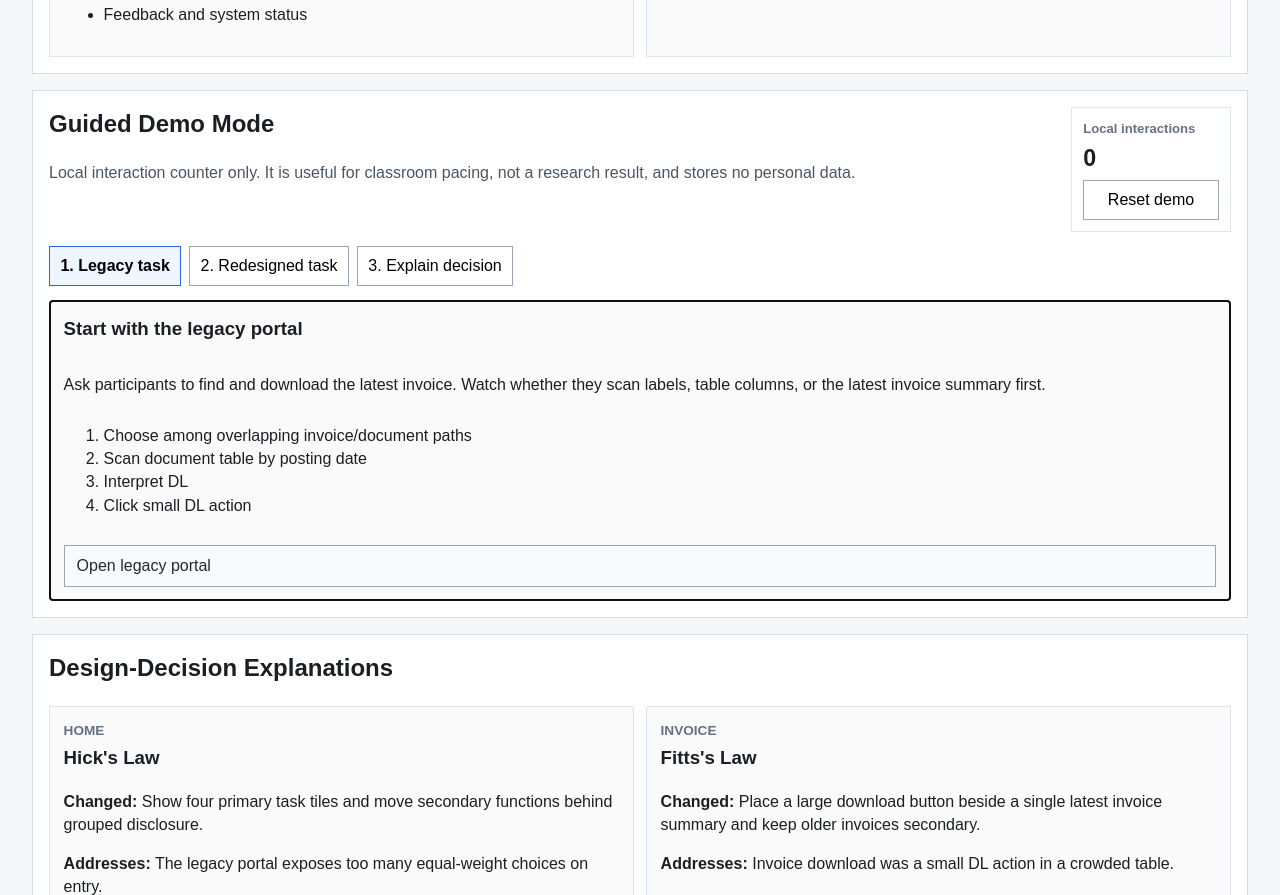
Scenario: Compare view behaviors › exposes comparison controls and demo state
(page scrolled)
Step 1. Click the button "2. Redesigned task" → {"x": 269, "y": 266}, box [189, 246, 349, 286]
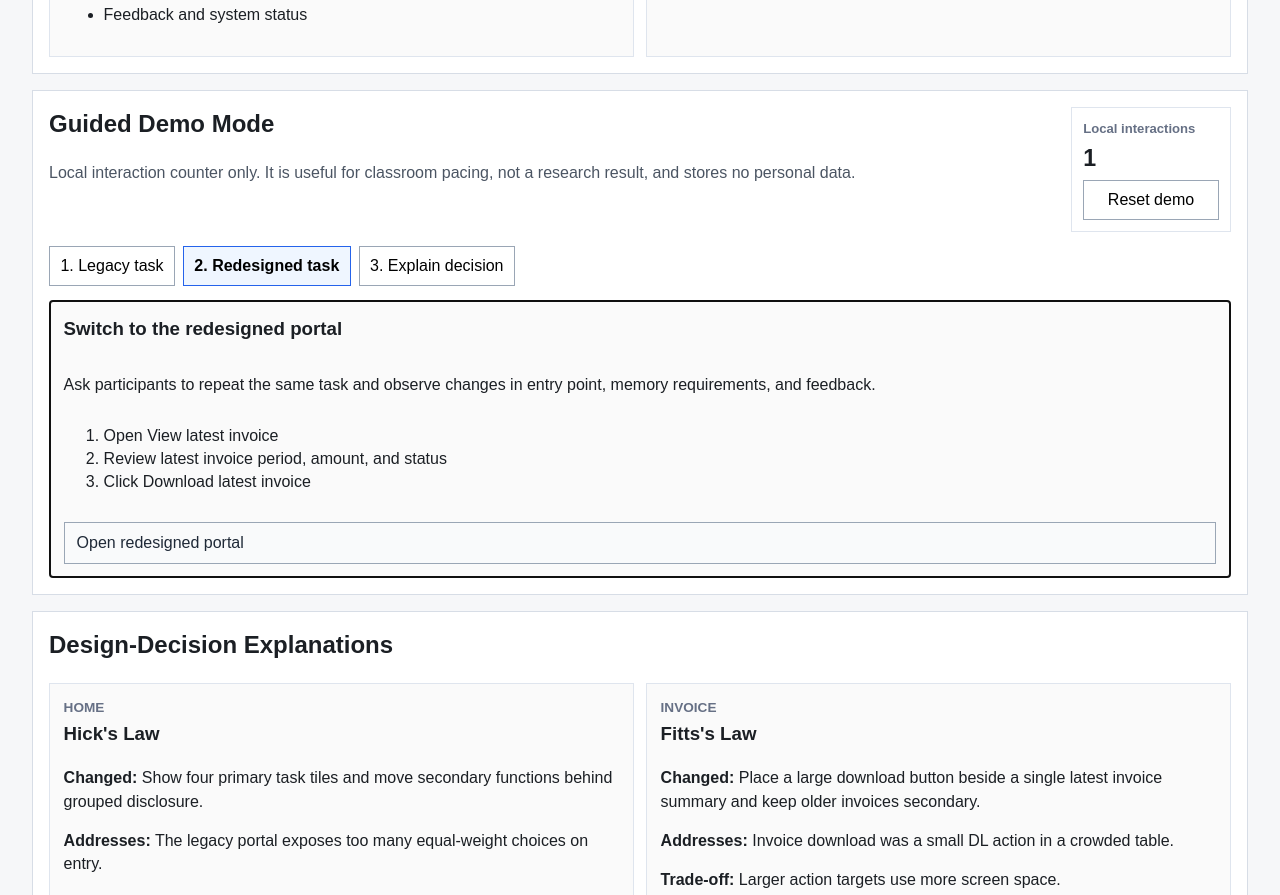
Expected: the text "Local interactions" is shown, [1083, 121, 1195, 136]
Expected: the button "2. Redesigned task" is pressed, [183, 246, 351, 286]
Step 2. Click the button "Reset demo" → {"x": 1151, "y": 200}, box [1083, 180, 1219, 220]
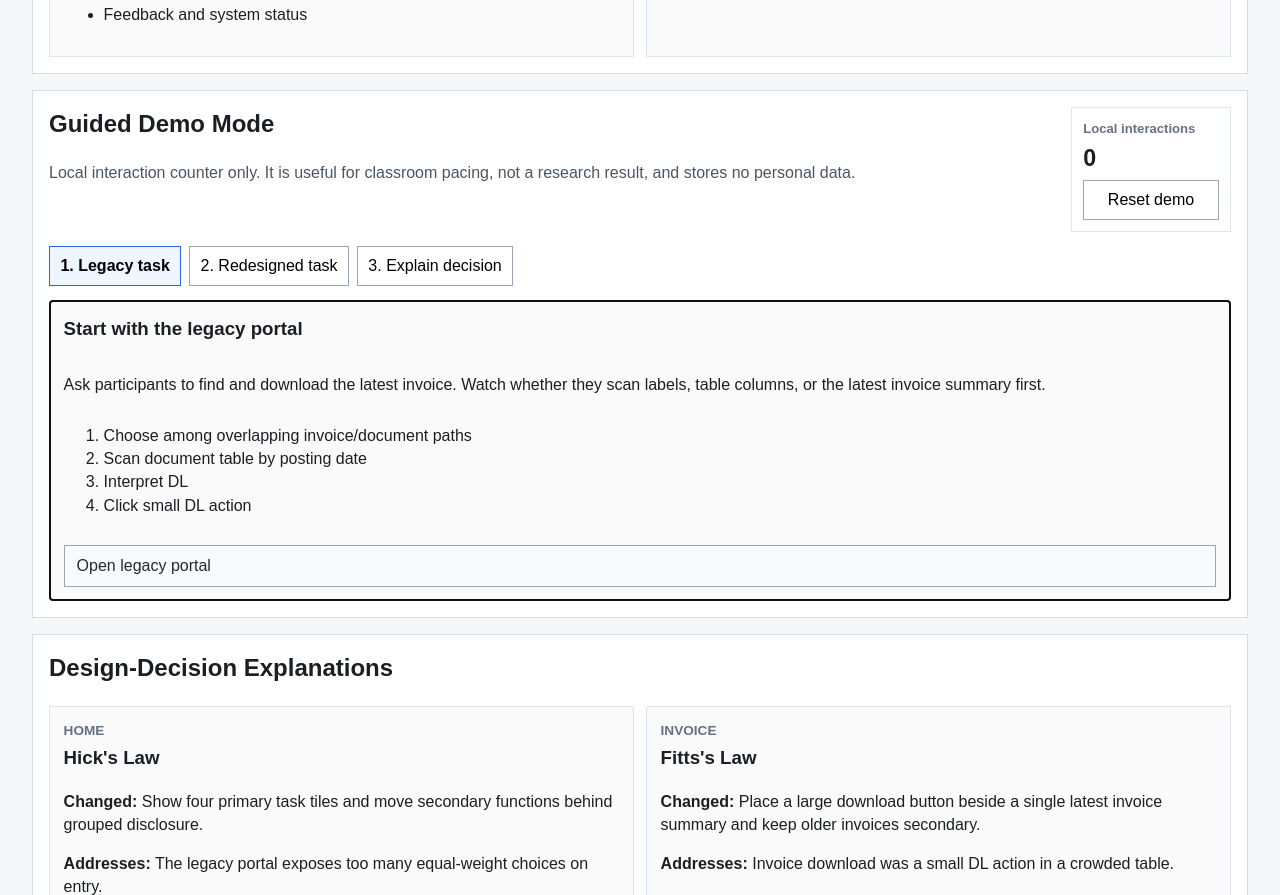
Expected: the text "0" is shown, [1083, 145, 1096, 171]
